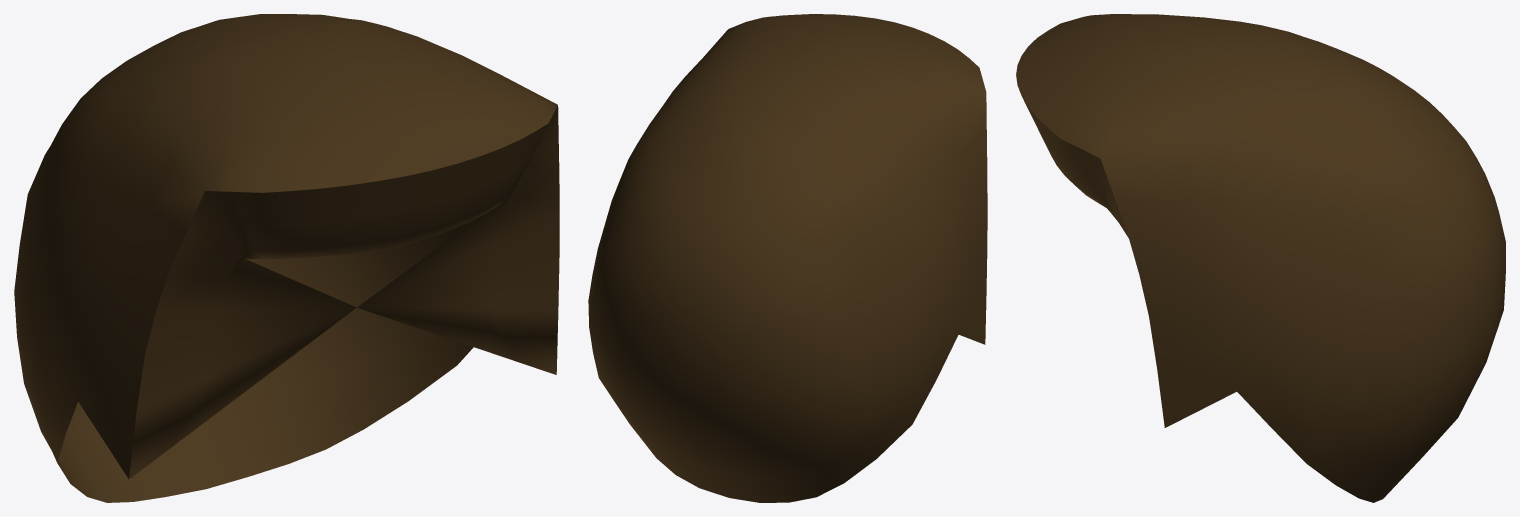
Rendered from hair_106.gltf.
3 views of the same model, side by side, from view 1: azimuth 30°, elevation 25°; view 2: azimuth 150°, elevation 25°; view 3: azimuth 270°, elevation 25° (orthographic). The views are drawn at different scales.
Parts seen in each view (by area): view 1: hair.134; view 2: hair.134; view 3: hair.134.
Boxes of the visible parts, bbox=[...] form: hair.134: bbox=[14, 14, 559, 502]; hair.134: bbox=[588, 14, 987, 502]; hair.134: bbox=[1016, 14, 1505, 502].
Size of the model in its own units: 0.1015 by 0.1141 by 0.1173.
